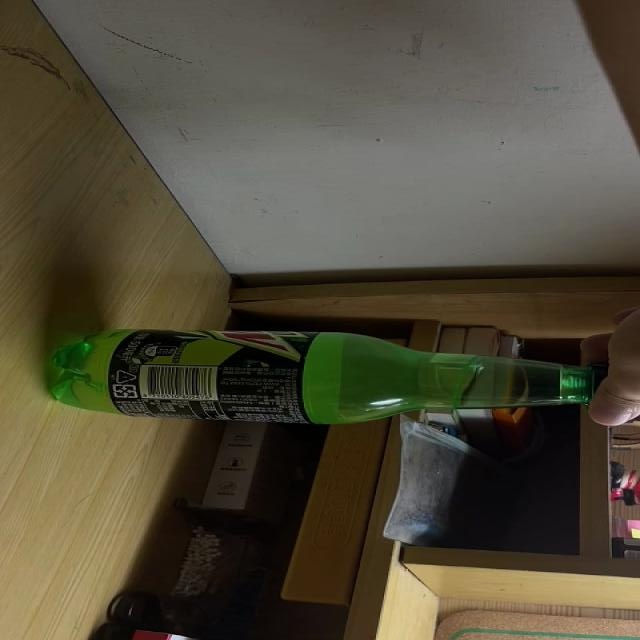Mountain-Dew: (45, 328, 640, 424)
